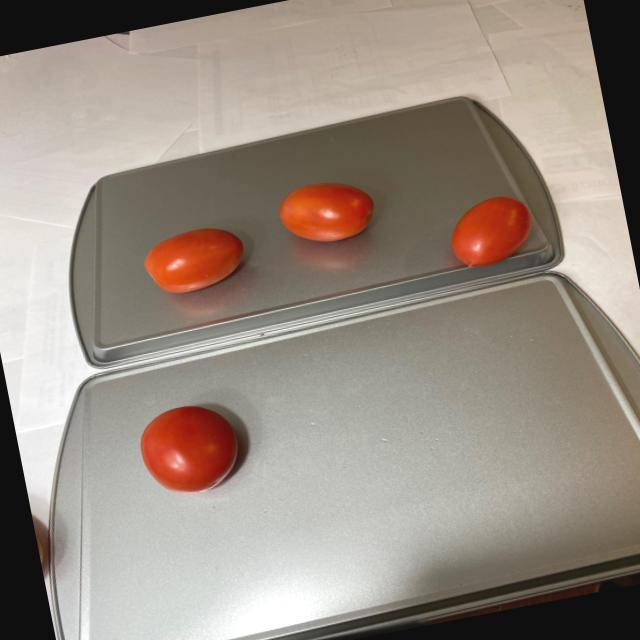tomato: (123, 172, 390, 309), (120, 392, 255, 508), (442, 193, 540, 275)
